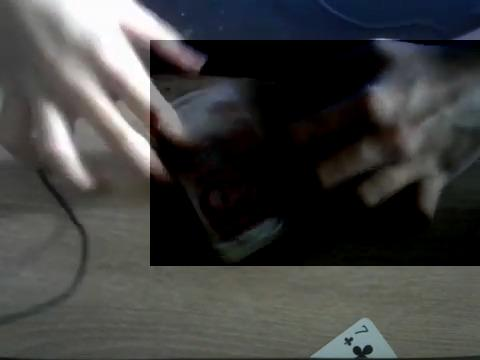5leva: (150, 40, 480, 266)
